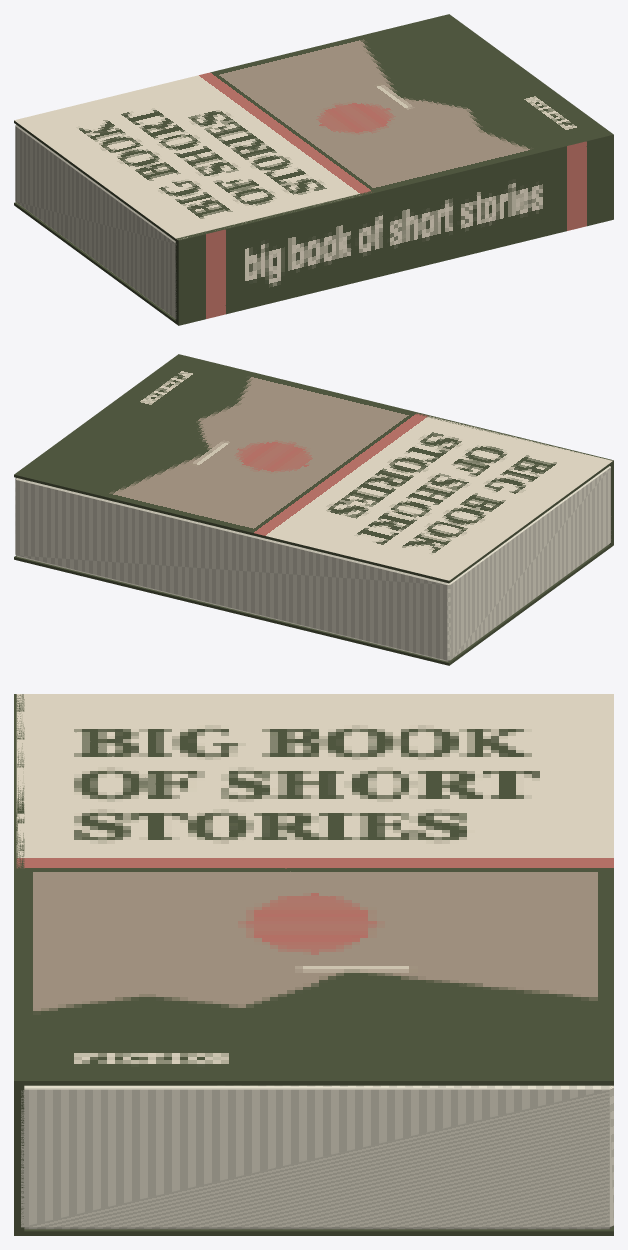
Rendered from story_book.glb.
3 views of the same model, one above another, from view 1: azimuth 30°, elevation 25°; view 2: azimuth 150°, elevation 25°; view 3: azimuth 270°, elevation 25° (orthographic). The views are drawn at different scales.
Visible parts, largest first — view 1: block_front, block_spine, block_pages, block_back; view 2: block_front, block_pages, block_back, block_spine; view 3: block_front, block_pages, block_spine, block_back.
Part boxes in pixels (box(x1,y1,x2,y2)): block_front: box(14, 14, 610, 242); block_spine: box(175, 132, 613, 325); block_pages: box(15, 124, 176, 318); block_back: box(14, 202, 177, 324); block_front: box(14, 355, 613, 583); block_pages: box(15, 466, 610, 661); block_back: box(14, 543, 613, 665); block_spine: box(176, 354, 613, 545); block_front: box(16, 694, 613, 1085); block_pages: box(21, 1085, 613, 1229); block_spine: box(14, 694, 24, 1235); block_back: box(16, 1226, 613, 1235).
Size of the model in its own units: 0.247 by 0.0461 by 0.1618.
Materials: 1 (1 with a texture image).
